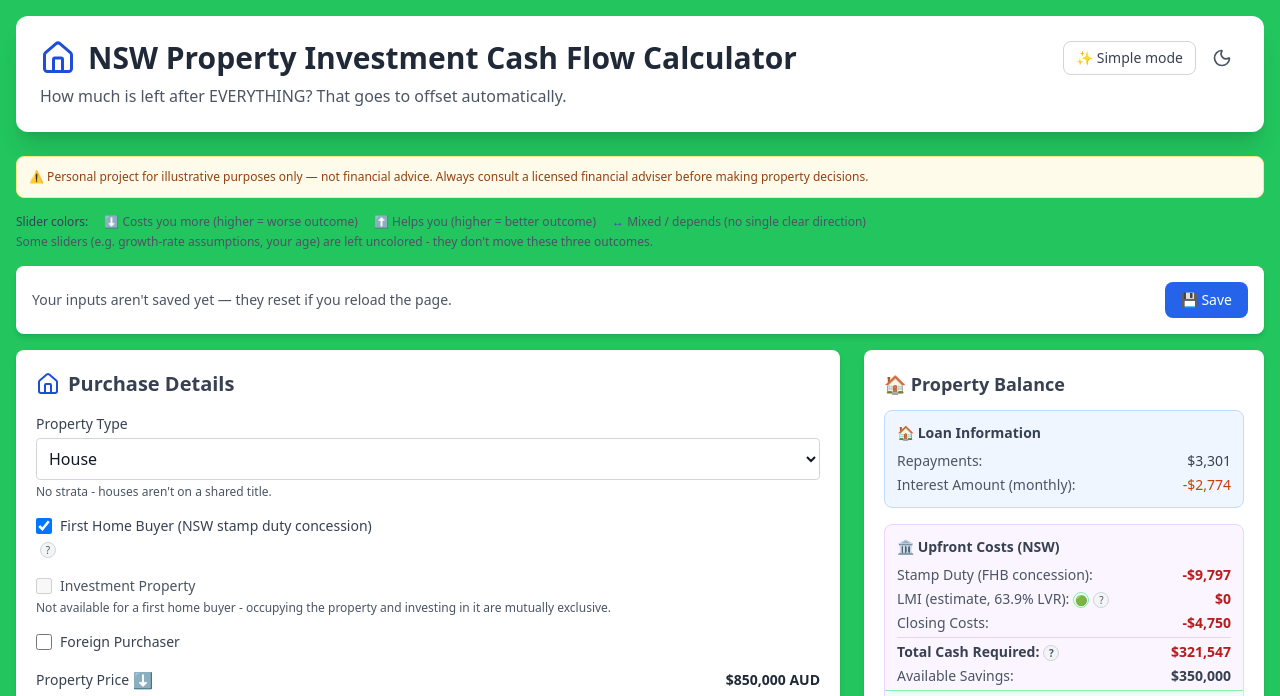
Test case: Simple / Advanced UI mode (TODO-135) › shows the same figures in both modes for the same scenario
Click the button "✨ Simple mode".
click(1130, 58)  # box left=1063, top=41, right=1196, bottom=75
(page scrolled)
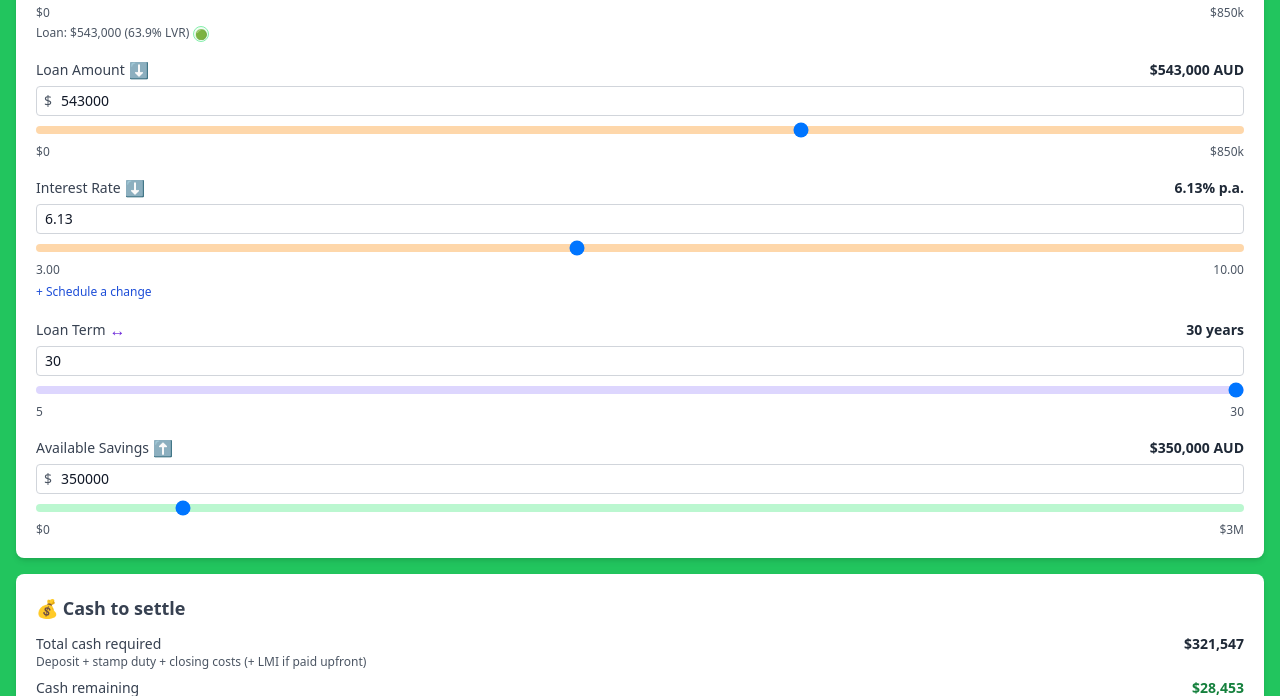
Expected: the number field labelled "Loan Term" is shown, left=36, top=346, right=1244, bottom=376
